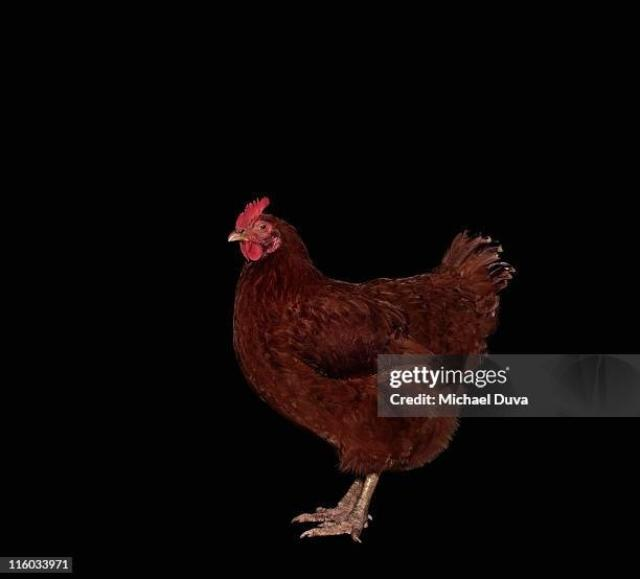Chicken: (229, 195, 518, 544)
